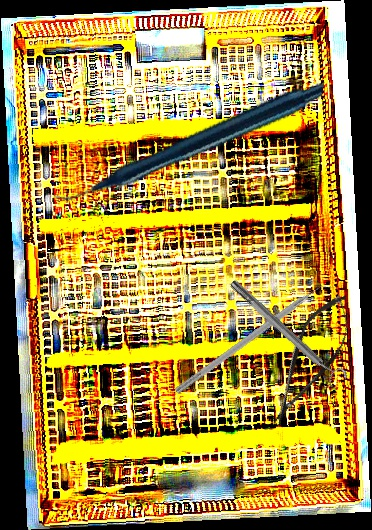Chopper: (173, 275, 340, 404)
Fixation Ring: (225, 273, 350, 392)
Handpiece: (53, 27, 325, 255)
Micro Scissor: (256, 285, 365, 436)
